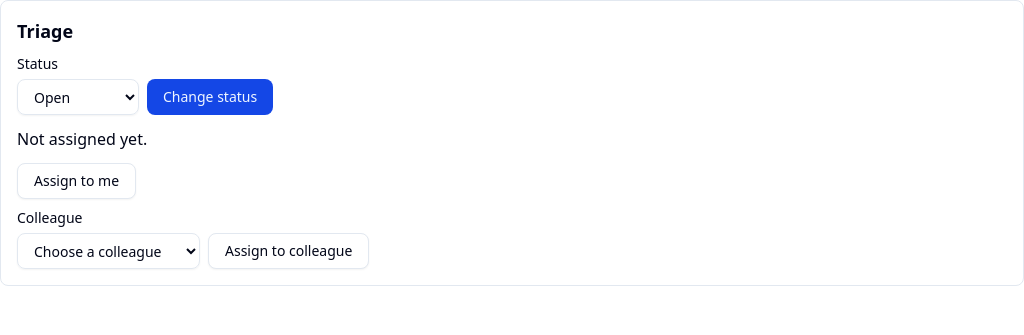
Test: no colleague picked is refused before anything is sent
Step 1. Click the button "Assign to colleague" → (289, 251), box [208,233,369,269]
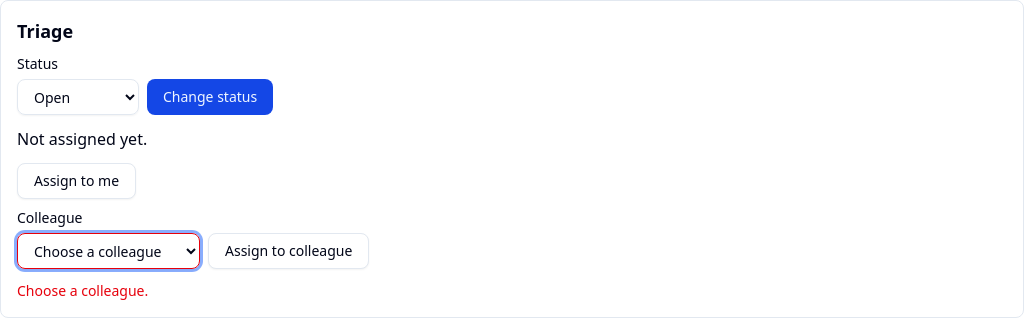
Now the message reads "Choose a colleague.", box [17,281,148,300]
